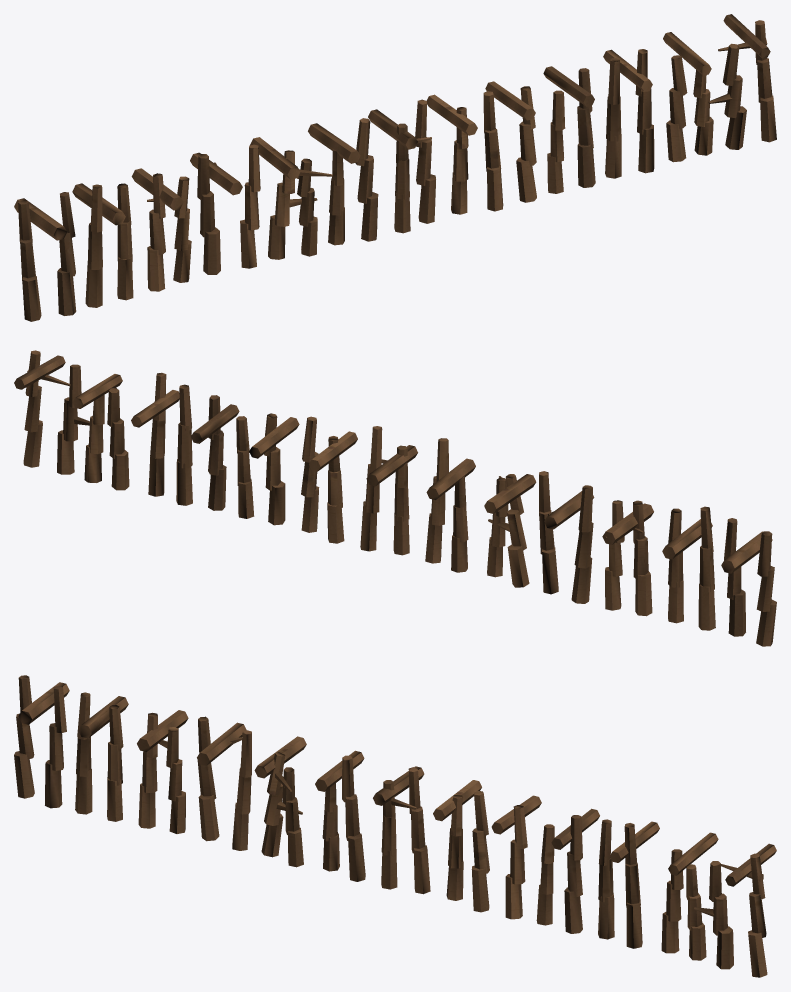
The picture shows the model from 3 angles, top to bottom: view 1: azimuth 30°, elevation 25°; view 2: azimuth 150°, elevation 25°; view 3: azimuth 330°, elevation 25°; orthographic projection.
Visible parts, largest first — view 1: low; view 2: low; view 3: low.
Boxes of the visible parts, box(x1,y1,x2,y2) form: low: box(14, 14, 776, 321); low: box(14, 350, 776, 646); low: box(14, 675, 776, 977).
Size of the model in its own units: 3.93 by 0.6075 by 0.4052.
1 material, 1 textured.
